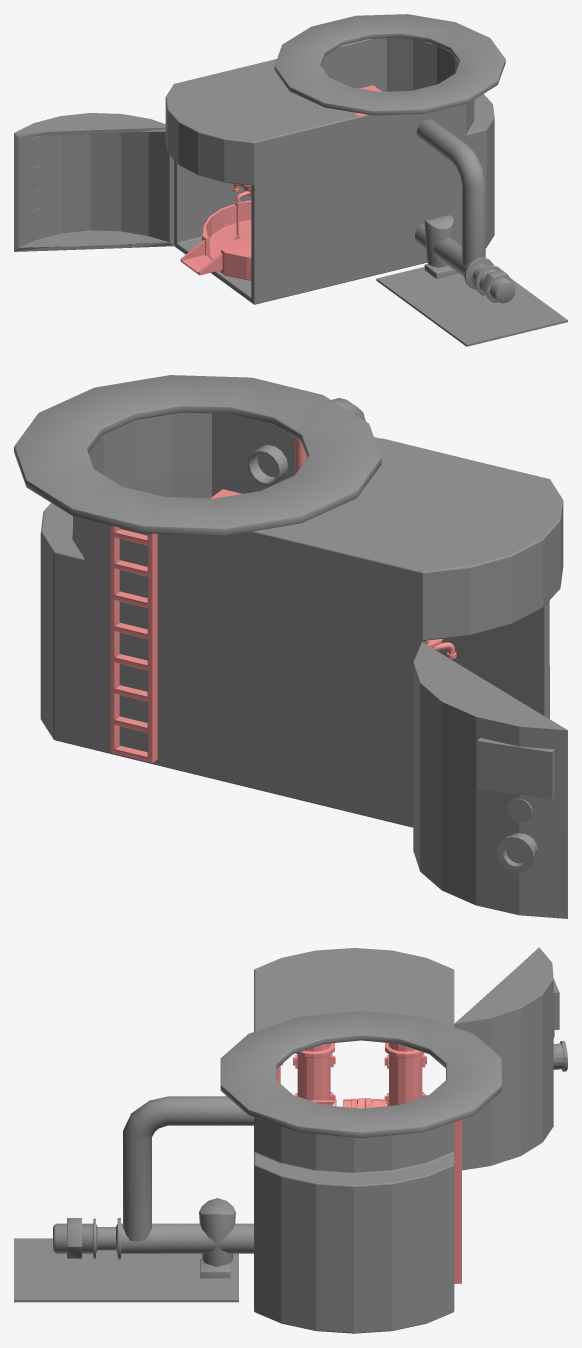
Rendered from dianchi2.FBX.
3 views of the same model, one above another, from view 1: azimuth 30°, elevation 25°; view 2: azimuth 150°, elevation 25°; view 3: azimuth 270°, elevation 25° (orthographic). The views are drawn at different scales.
Parts seen in each view (by area): view 1: 对象004, 对象001, waibu, 对象003, 对象005, 对象008; view 2: 对象004, 对象001, waibu, neibu; view 3: 对象004, waibu, 对象001, 对象003, 对象007, 对象006, neibu.
Part boxes in pixels (bbox=[...]): 对象004: bbox=[165, 37, 494, 304]; 对象001: bbox=[14, 113, 173, 251]; waibu: bbox=[274, 14, 515, 303]; 对象003: bbox=[376, 267, 567, 346]; 对象005: bbox=[202, 200, 251, 280]; 对象008: bbox=[180, 240, 222, 275]; 对象004: bbox=[40, 412, 563, 827]; 对象001: bbox=[413, 642, 567, 918]; waibu: bbox=[14, 375, 381, 535]; neibu: bbox=[110, 436, 430, 762]; 对象004: bbox=[254, 948, 454, 1333]; waibu: bbox=[53, 1011, 501, 1278]; 对象001: bbox=[454, 947, 567, 1170]; 对象003: bbox=[14, 1238, 238, 1302]; 对象007: bbox=[385, 1042, 424, 1105]; 对象006: bbox=[296, 1043, 334, 1105]; neibu: bbox=[276, 1053, 461, 1283].
Bounding box in the file's own units: 1315 × 520 × 1252.
